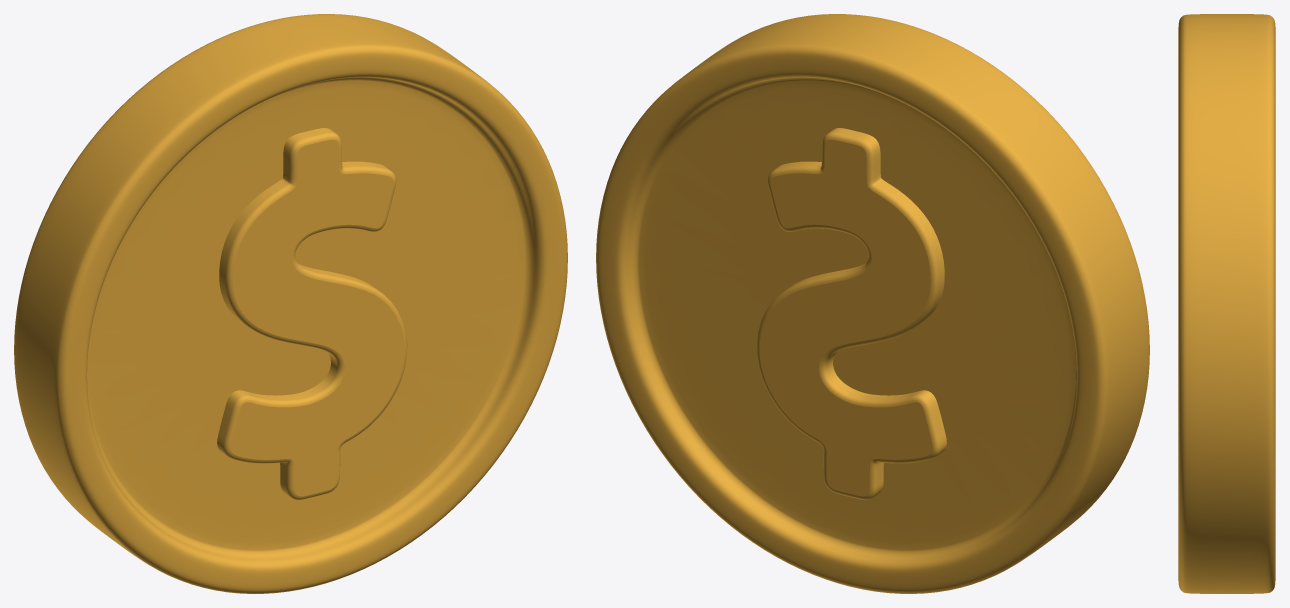
3 renders of one model, left to right at view 1: azimuth 30°, elevation 25°; view 2: azimuth 150°, elevation 25°; view 3: azimuth 270°, elevation 25°, orthographic. The views are drawn at different scales.
Parts seen in each view (by area): view 1: Coin Dollar 1,5 cm_2, Curve.001_1; view 2: Coin Dollar 1,5 cm_2, Curve.001_1; view 3: Coin Dollar 1,5 cm_2.
Part boxes in pixels (x1,y1,x2,y2): Coin Dollar 1,5 cm_2: (14, 14, 567, 593); Curve.001_1: (217, 128, 407, 499); Coin Dollar 1,5 cm_2: (596, 14, 1149, 593); Curve.001_1: (756, 128, 946, 499); Coin Dollar 1,5 cm_2: (1178, 14, 1275, 593).
Bounding box in the file's own units: 1.42 × 1.42 × 0.2376.
